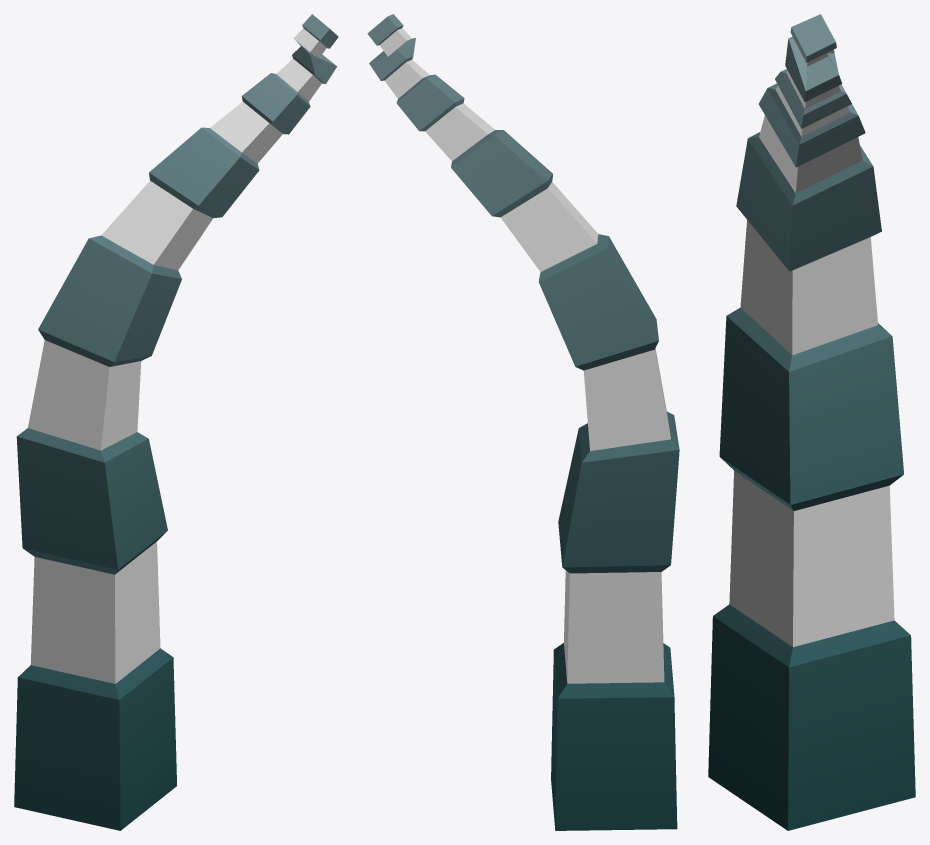
3 views of the same model, side by side, from view 1: azimuth 30°, elevation 25°; view 2: azimuth 150°, elevation 25°; view 3: azimuth 270°, elevation 25° (orthographic). The views are drawn at different scales.
Parts seen in each view (by area): view 1: Cube.142; view 2: Cube.142; view 3: Cube.142.
Boxes of the visible parts, x1,y1,x2,y2 form: Cube.142: (14, 14, 338, 830); Cube.142: (367, 14, 679, 830); Cube.142: (708, 14, 915, 830).
Bounding box in the file's own units: 5.48 × 12.16 × 2.52.
